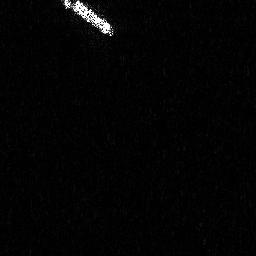ship: (62, 1, 115, 36)
